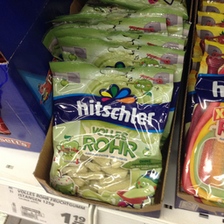candy: (46, 58, 174, 213)
